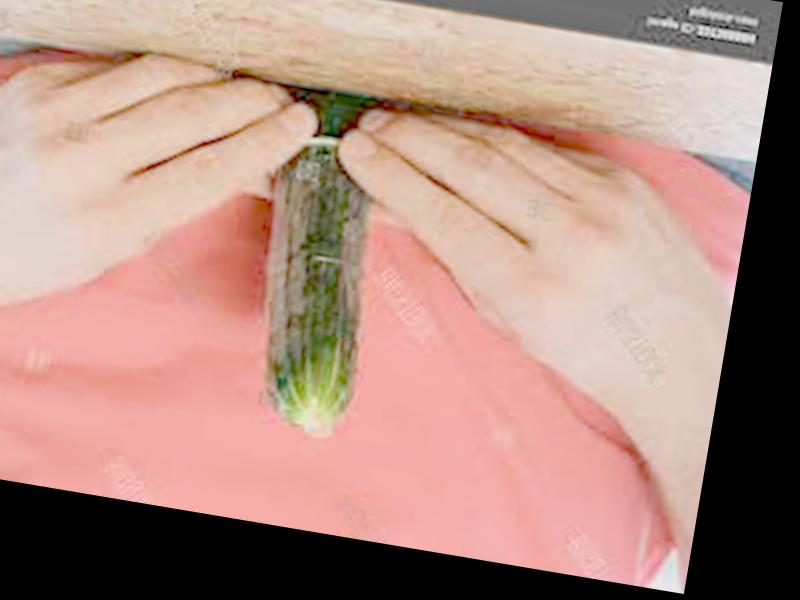Cucumber: (237, 87, 403, 437)
